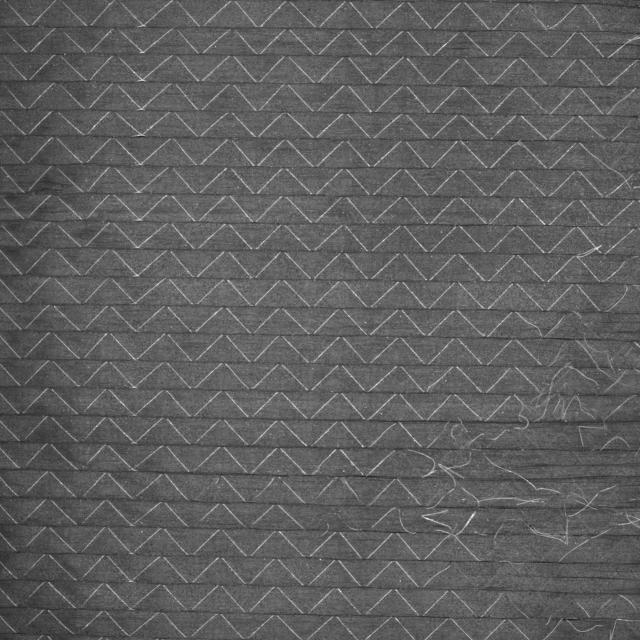carbon-fibre-defect: (400, 423, 635, 536), (453, 534, 627, 618), (533, 312, 634, 426)
